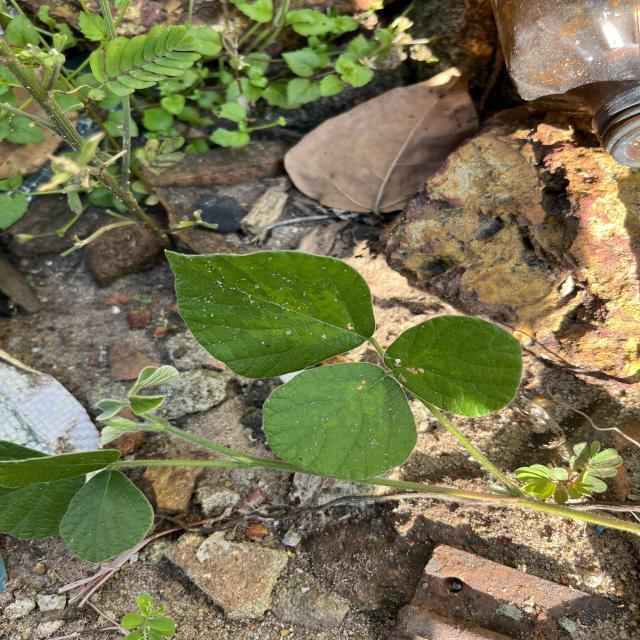Pseudarthria viscida: (158, 247, 526, 483)
